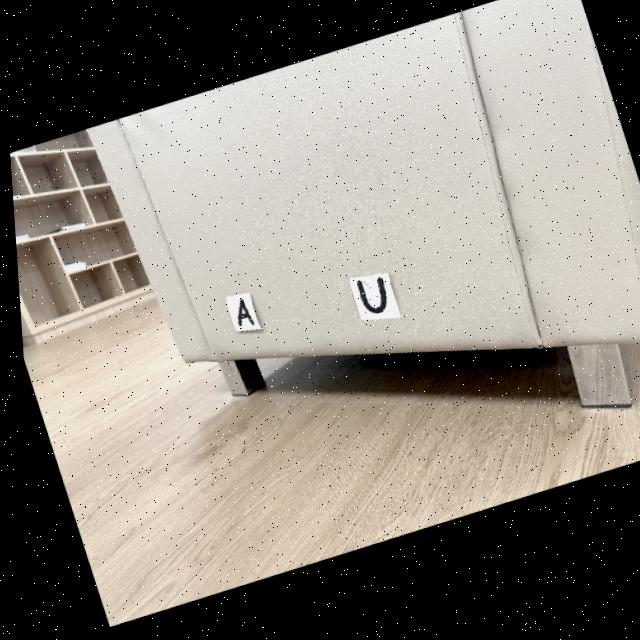A: (232, 300, 250, 329)
U: (352, 282, 382, 318)
